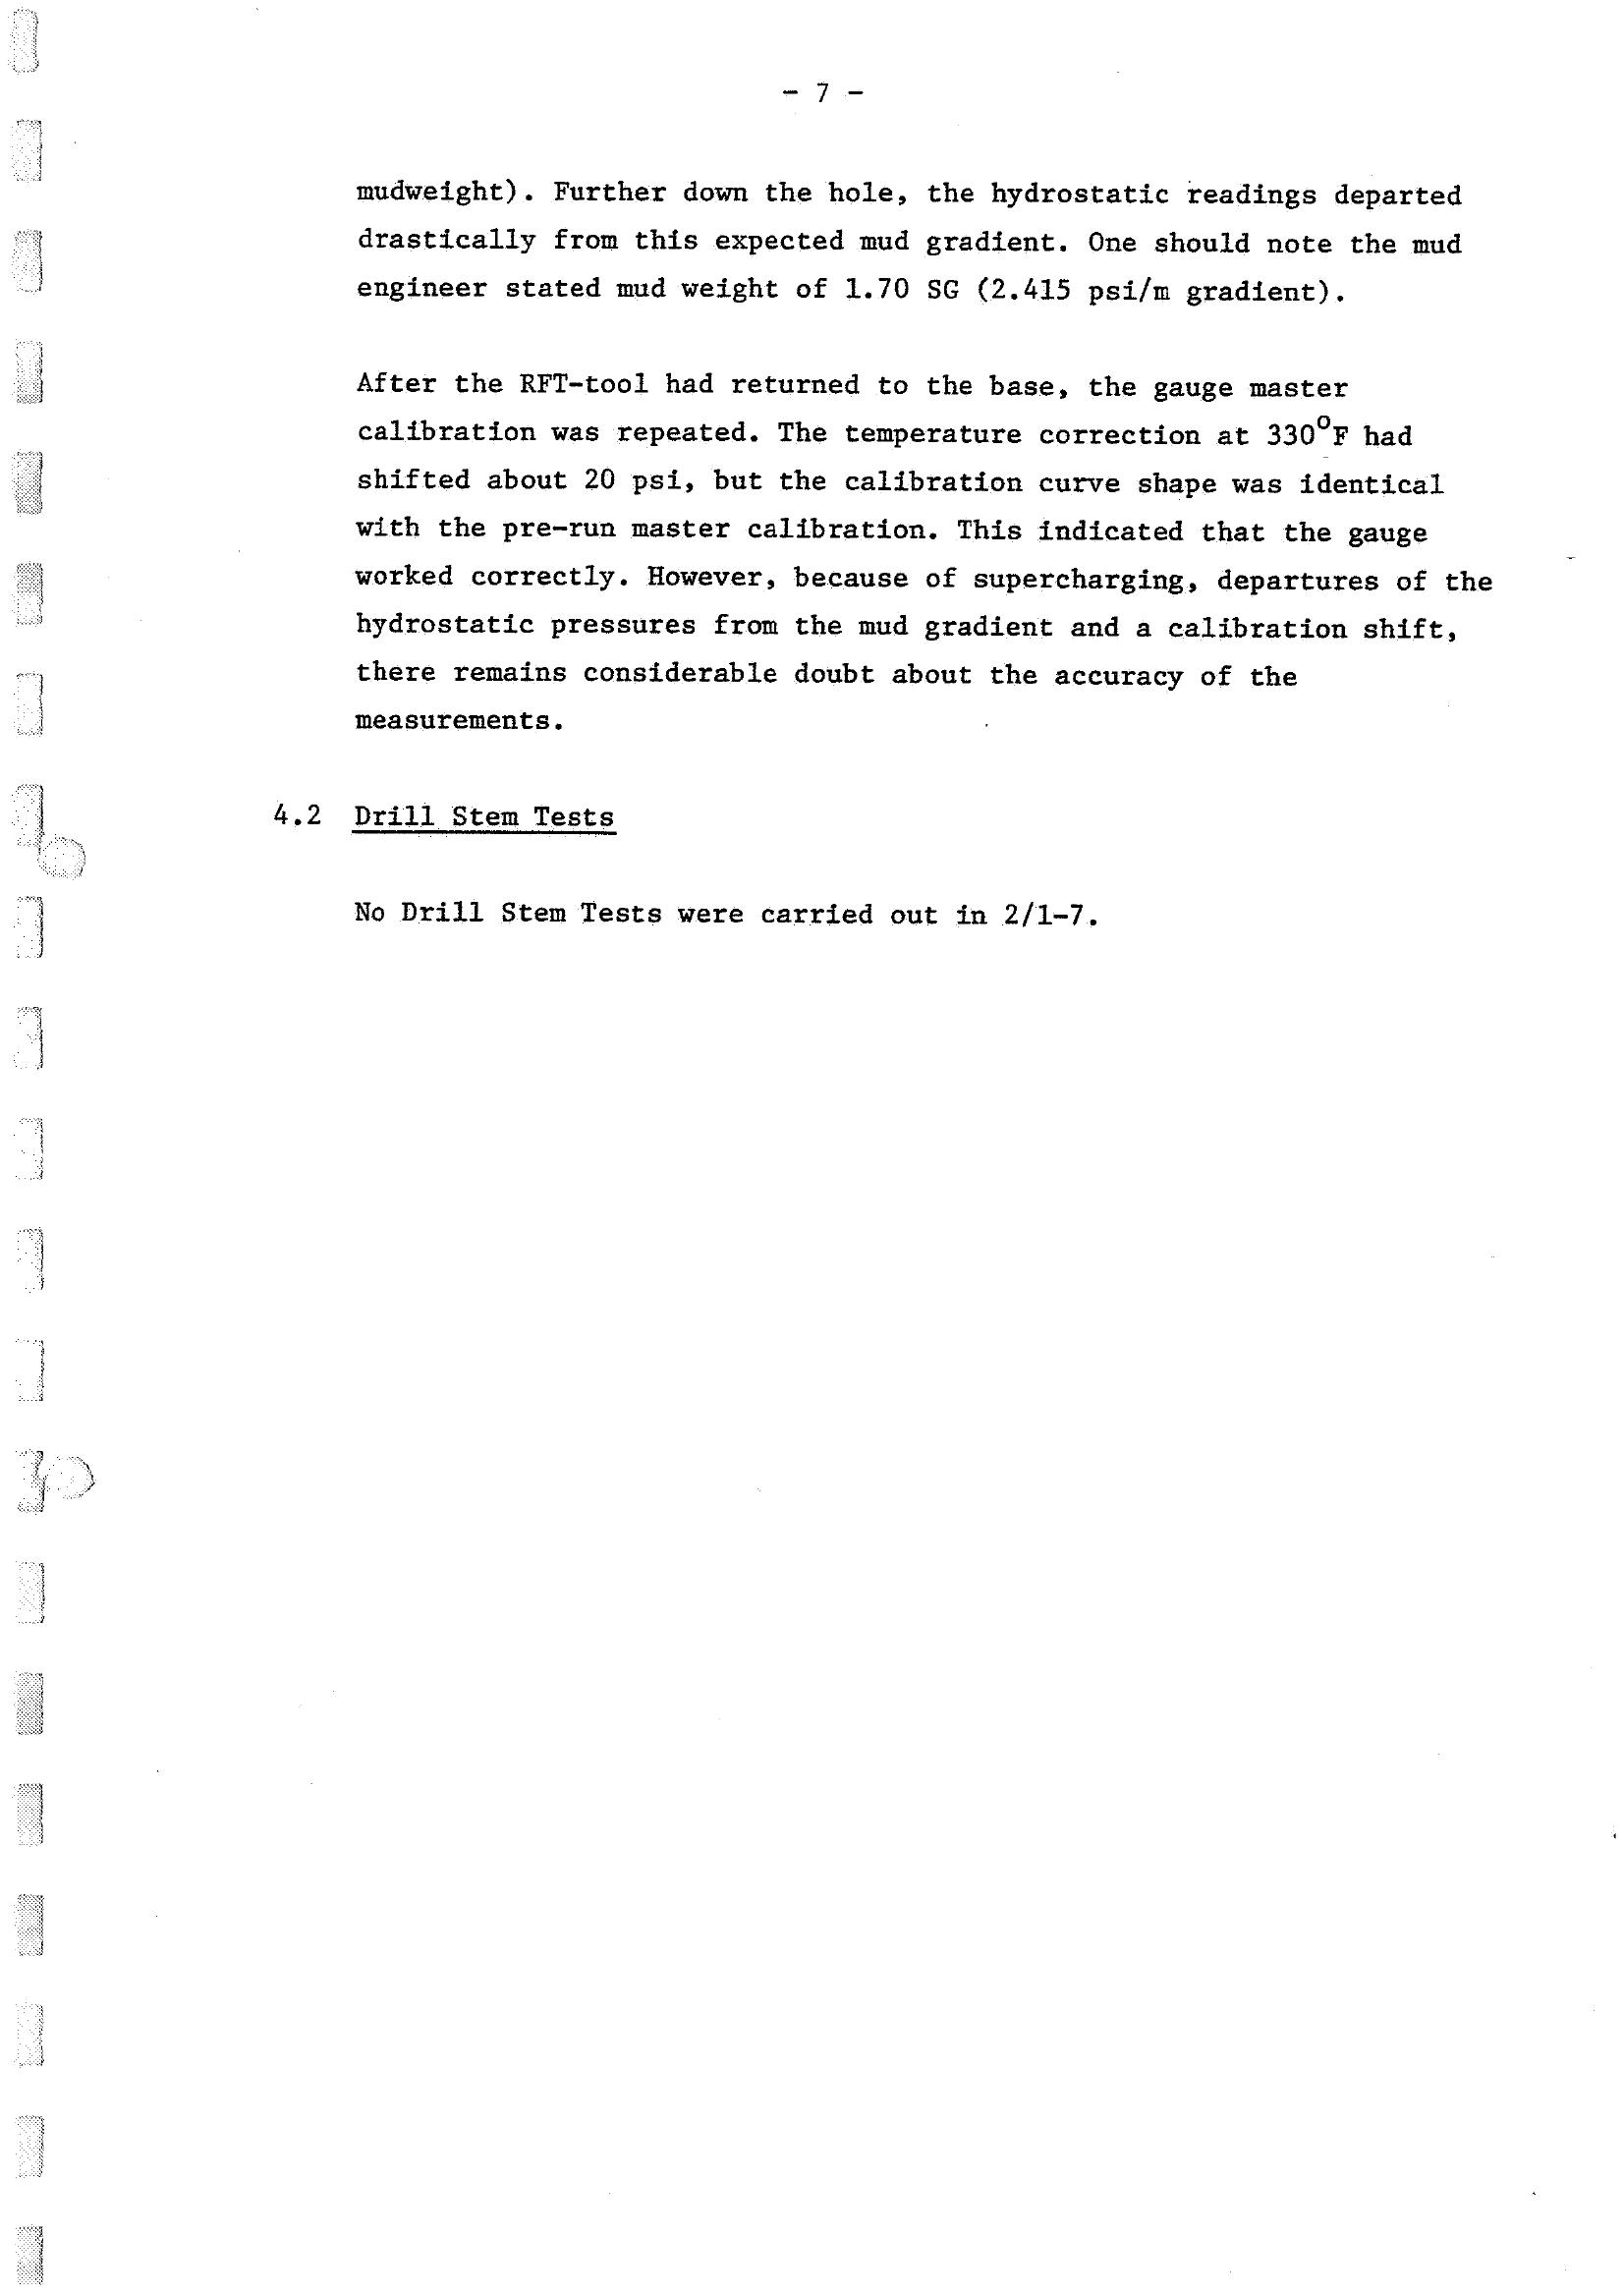text: (211, 137, 1543, 975)
